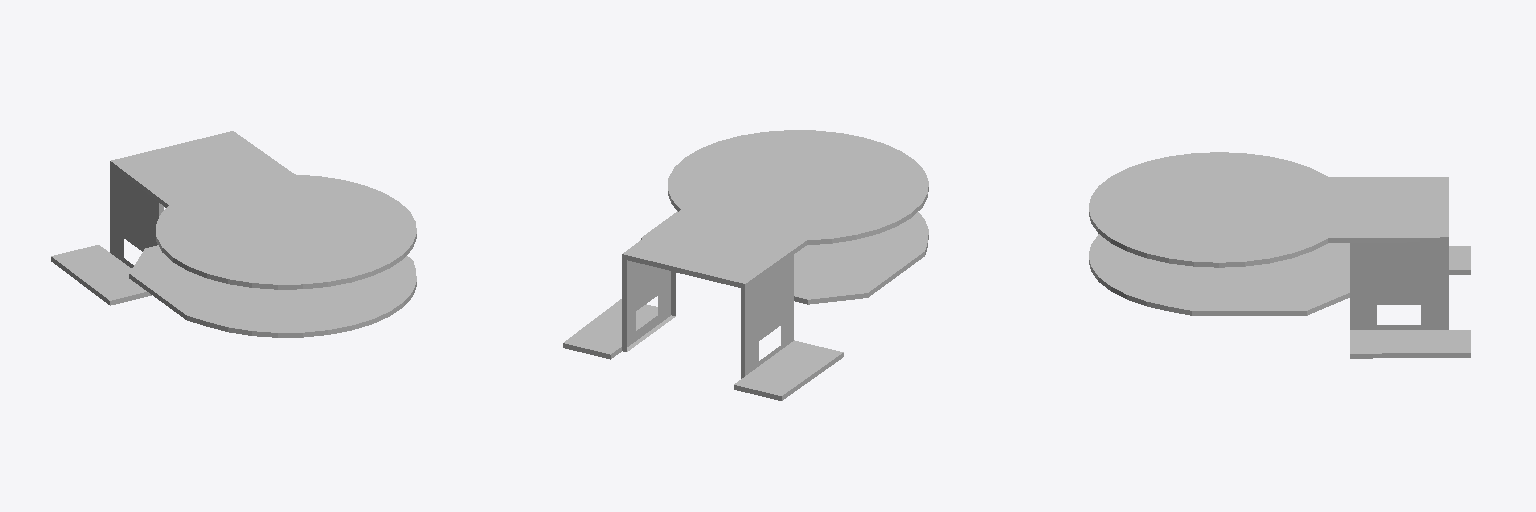
File: Chassis_V2.obj
3 renders of one model, left to right at view 1: azimuth 30°, elevation 25°; view 2: azimuth 150°, elevation 25°; view 3: azimuth 270°, elevation 25°, orthographic.
Parts seen in each view (by area): view 1: Layer2_Chassis_Cylinder; view 2: Layer2_Chassis_Cylinder; view 3: Layer2_Chassis_Cylinder.
Boxes of the visible parts, <box> form: Layer2_Chassis_Cylinder: <box>51,131,416,337</box>; Layer2_Chassis_Cylinder: <box>563,130,928,400</box>; Layer2_Chassis_Cylinder: <box>1089,152,1470,358</box>.
Bounding box in the file's own units: 24 × 9.82 × 35.1.